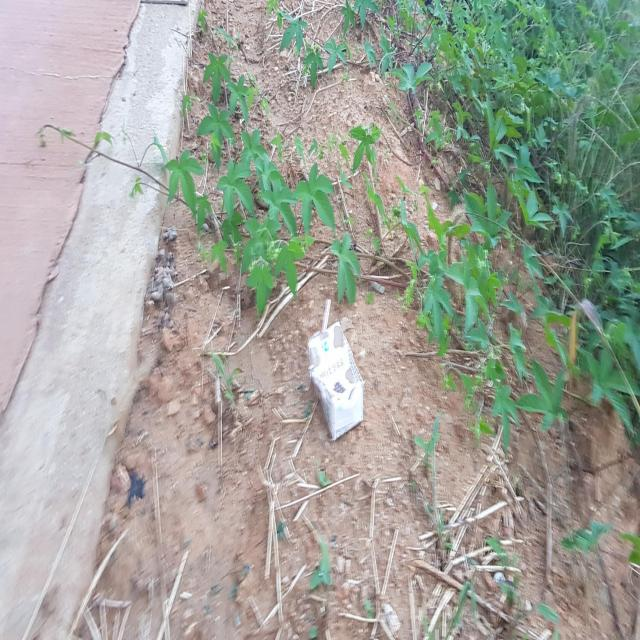paperpack: (308, 320, 365, 440)
